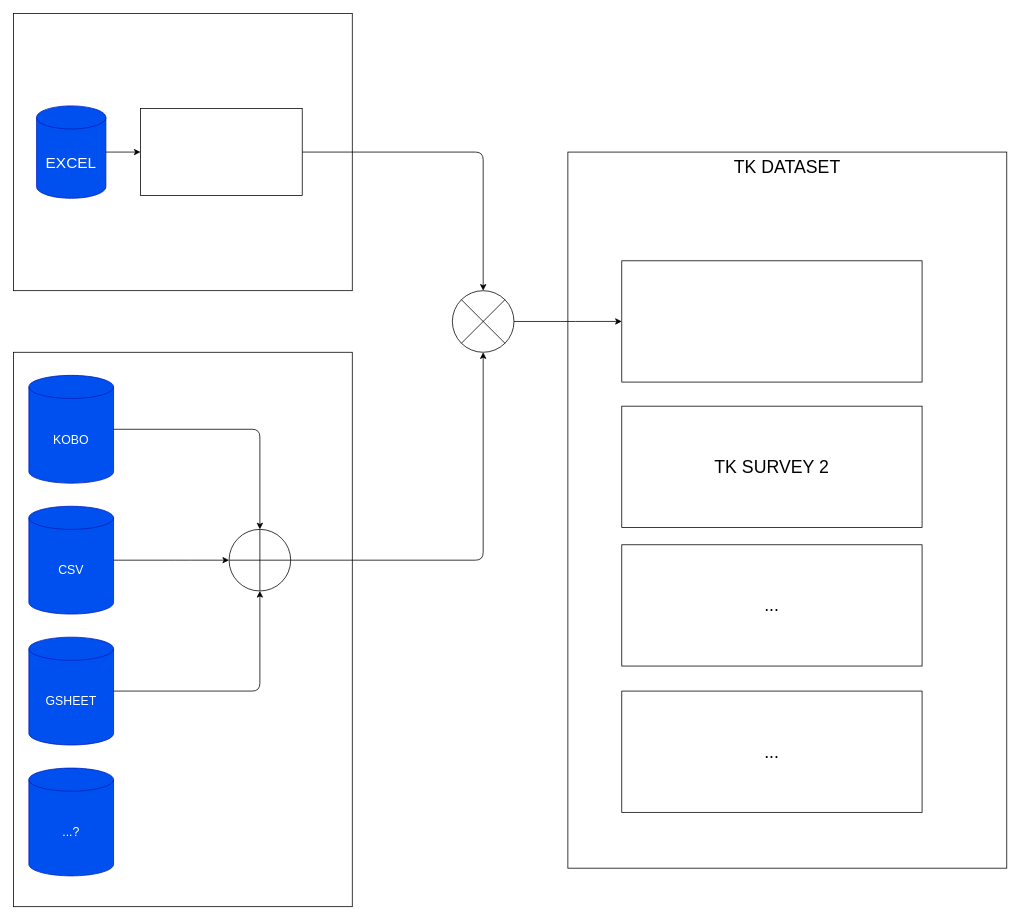
Some shapes in this 1020 by 920 pixel diagram are drawn without their labels. Here are the shapes that lost their labels. From the top down, the box of each, then its label:
(13, 13, 352, 291): FDF
(140, 108, 302, 196): CSV GSHEET
(621, 260, 922, 382): TK SURVEY 1
(13, 352, 352, 907): RAW SURVEY
